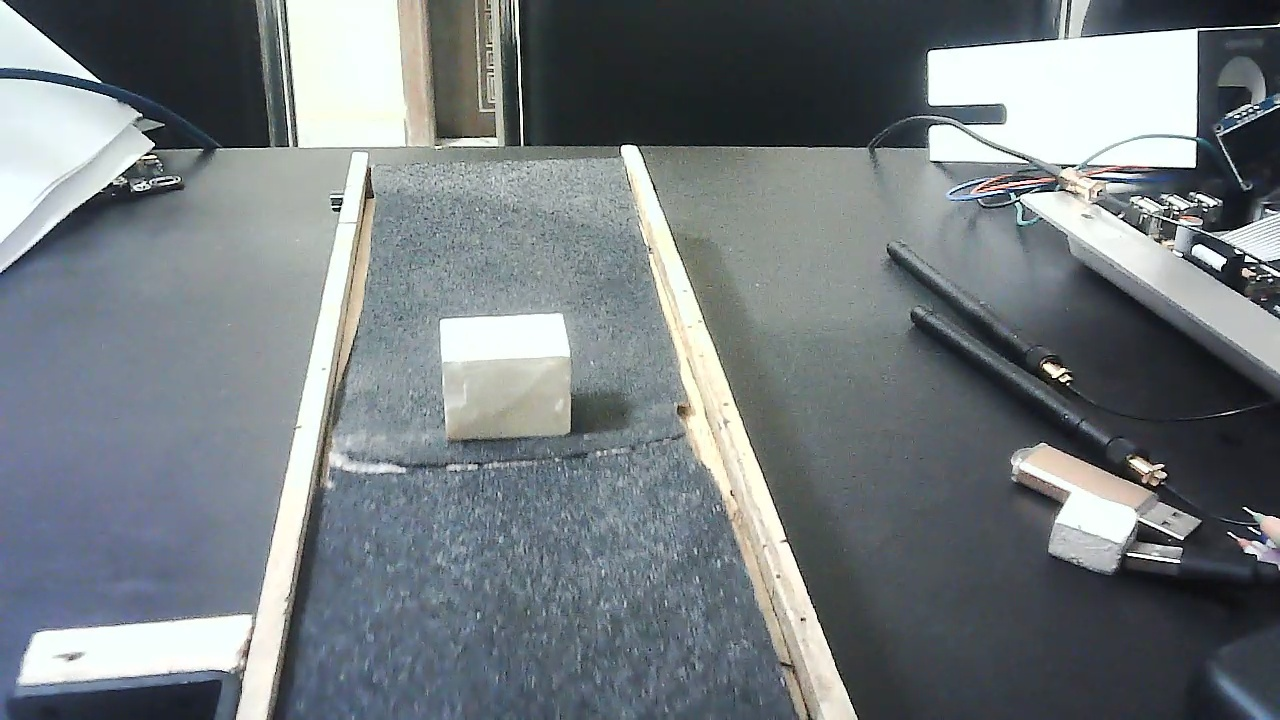Medium: (440, 312, 572, 444)
